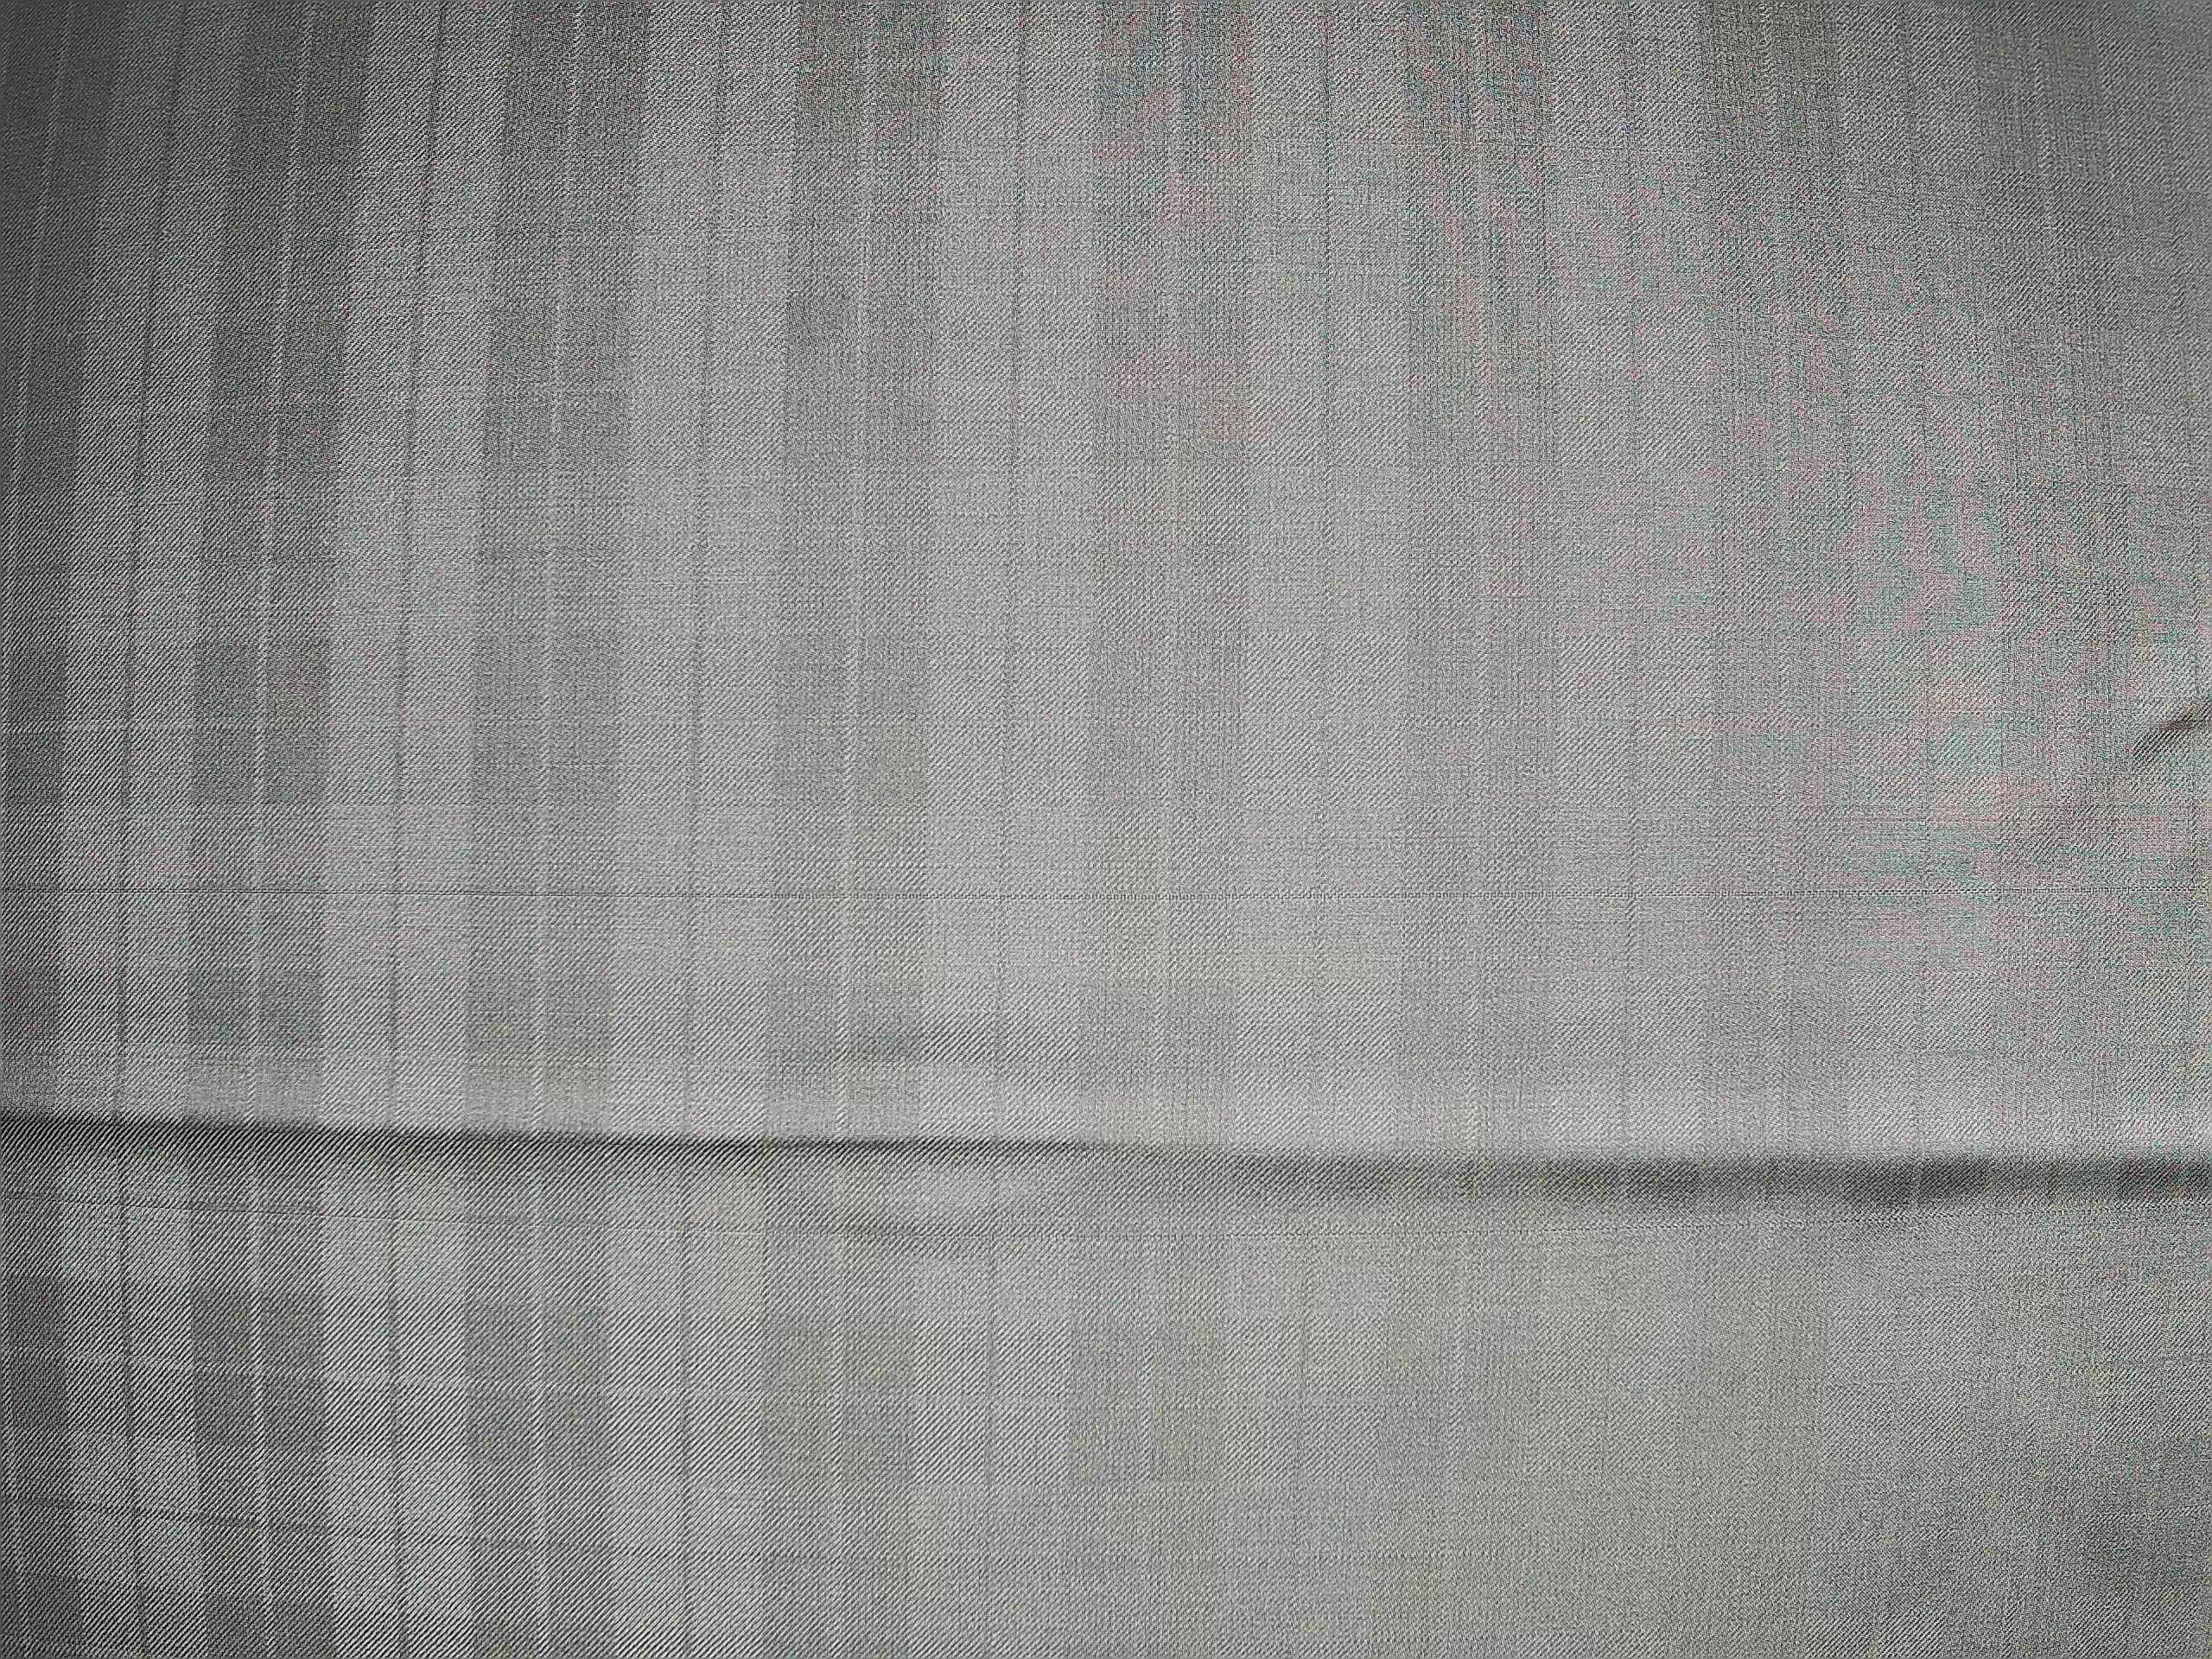others: (7, 873, 2205, 903)
